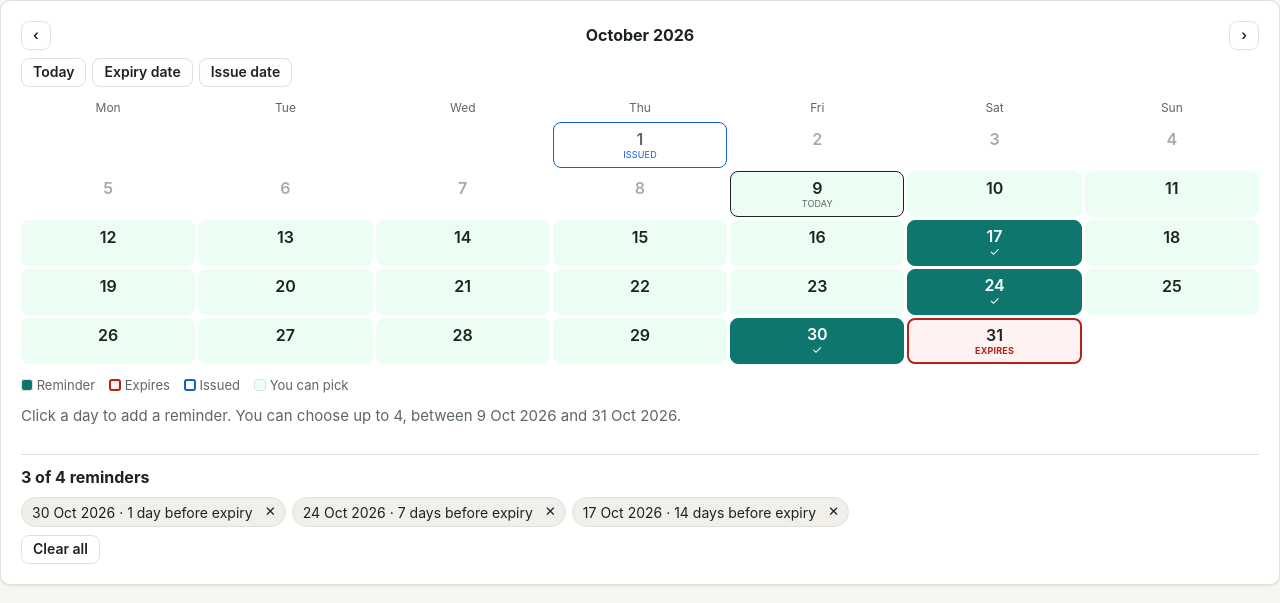
ReminderCalendar: choosing days › clears everything with one click
Click the button "Clear all" at (60,550), box [21, 535, 100, 564]
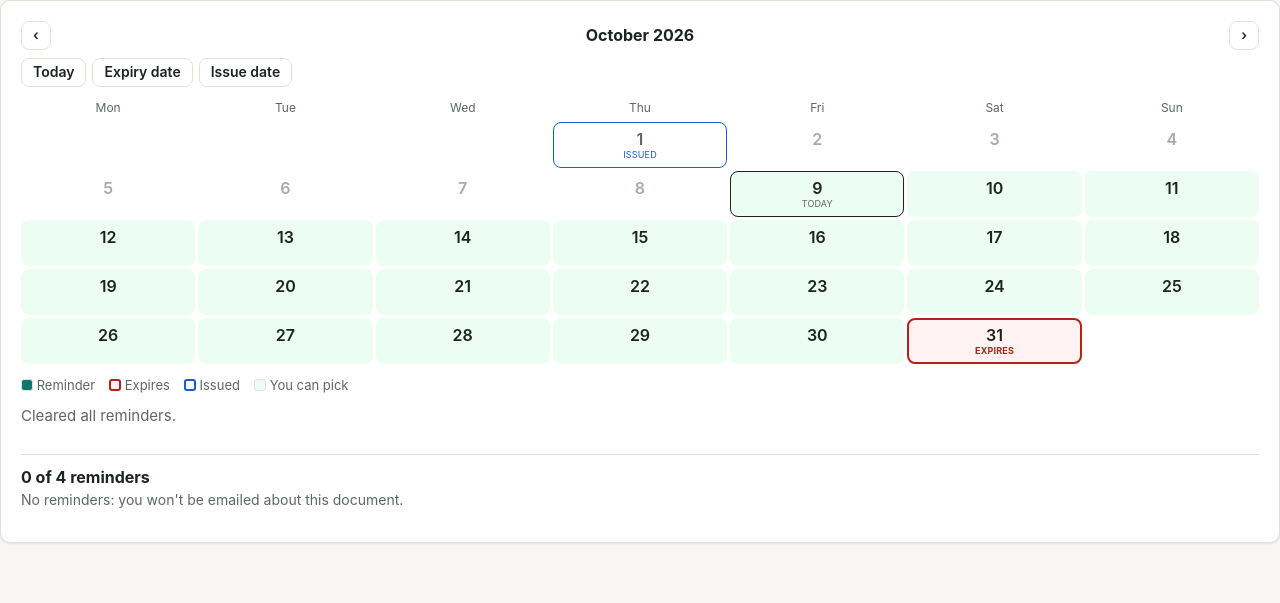
Check: the text "0 of 4 reminders" is shown, box [21, 467, 150, 487]
